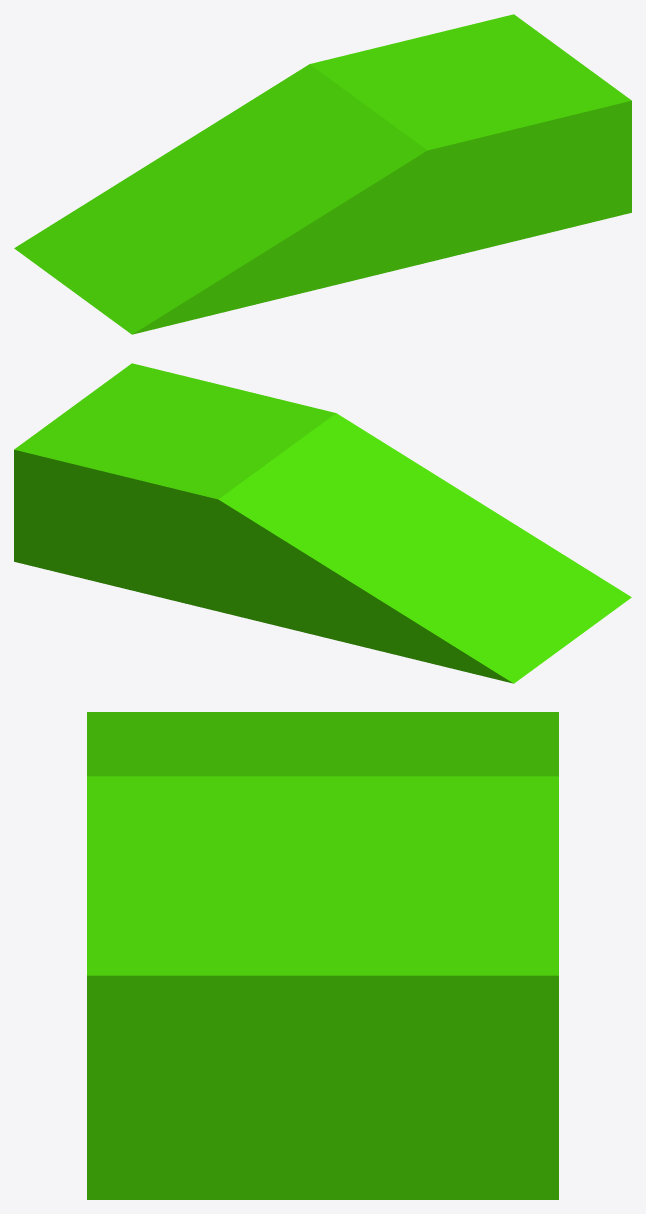
Rendered from Playergym67.fbx.
3 renders of one model, top to bottom at view 1: azimuth 30°, elevation 25°; view 2: azimuth 150°, elevation 25°; view 3: azimuth 270°, elevation 25°, orthographic. The views are drawn at different scales.
Visible parts, largest first — view 1: SM_PLayerGym.011; view 2: SM_PLayerGym.011; view 3: SM_PLayerGym.011.
Part boxes in pixels (x1,y1,x2,y2): SM_PLayerGym.011: (14,14,631,334); SM_PLayerGym.011: (14,363,631,683); SM_PLayerGym.011: (87,712,558,1199).
Bounding box in the file's own units: 489 × 105 × 200.
